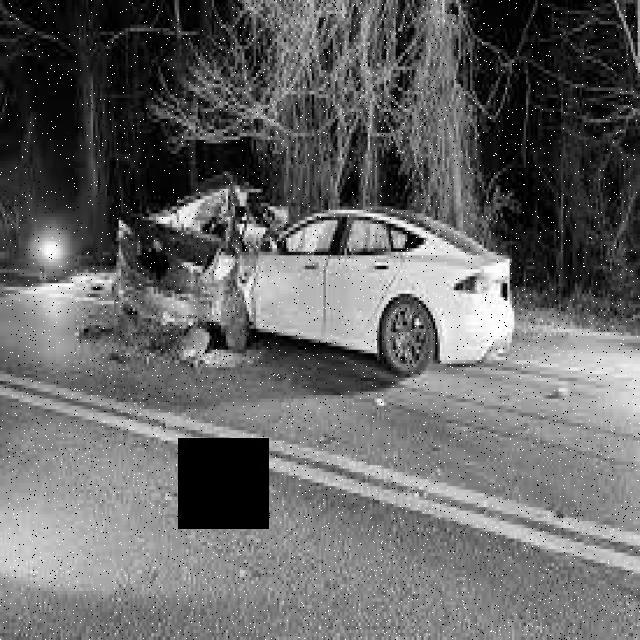severe: (113, 175, 518, 382)
